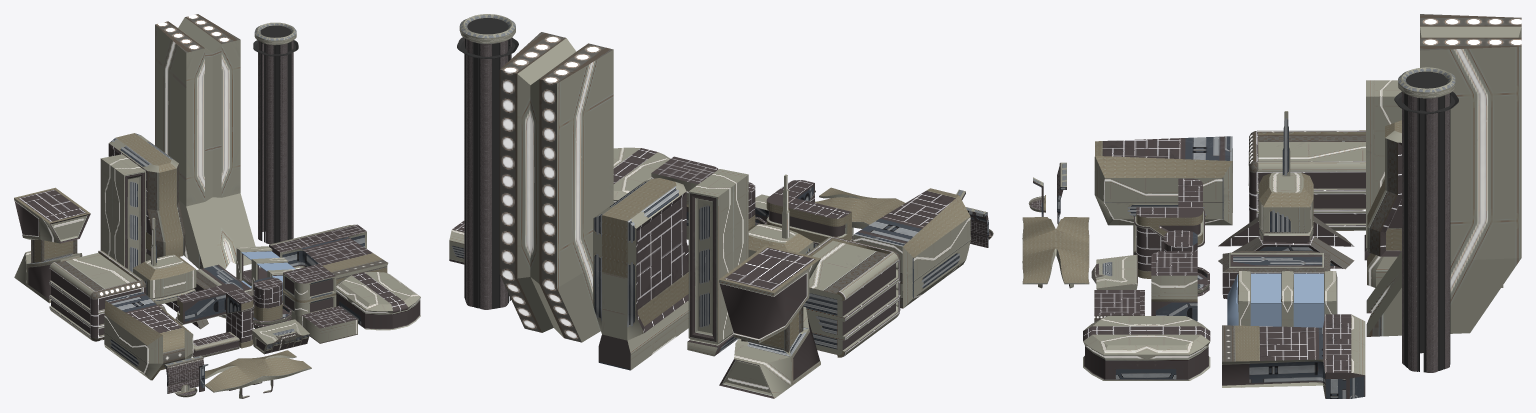
Rendered from KF_SM_ModularKit.fbx.
The picture shows the model from 3 angles, left to right: view 1: azimuth 30°, elevation 25°; view 2: azimuth 150°, elevation 25°; view 3: azimuth 270°, elevation 25°; orthographic projection. The views are drawn at different scales.
Parts seen in each view (by area): view 1: KF_SM_Tower002, Object020, KF_SM_CapB, KF_SM_DoubleB, KF_SM_WindowB, KF_SM_RectB, KF_SM_TallB, Box039, KF_SM_Tbuilding001, Box008, KF_SM_AnthenaB, Box037 (+8 smaller); view 2: KF_SM_Tower002, KF_SM_TallB, KF_SM_DoubleB, Object020, KF_SM_RectB, KF_SM_WindowB, KF_SM_CapB, Box008, Box039, KF_SM_AnthenaB, Box037, Box034 (+3 smaller); view 3: KF_SM_Tower002, Object020, KF_SM_CapB, KF_SM_Tbuilding001, KF_SM_WindowB, Box039, KF_SM_AnthenaB, KF_SM_RoomB, Box037, KF_SM_TallB, Box008, Box034 (+6 smaller).
Boxes of the visible parts, <box> form: KF_SM_Tower002: <box>155,14,255,269</box>; Object020: <box>254,22,296,244</box>; KF_SM_CapB: <box>104,291,193,380</box>; KF_SM_DoubleB: <box>14,187,90,303</box>; KF_SM_WindowB: <box>49,250,146,341</box>; KF_SM_RectB: <box>100,154,145,272</box>; KF_SM_TallB: <box>108,133,185,260</box>; Box039: <box>336,272,420,330</box>; KF_SM_Tbuilding001: <box>269,224,388,284</box>; Box008: <box>175,284,254,348</box>; KF_SM_AnthenaB: <box>133,218,208,329</box>; Box037: <box>205,350,311,398</box>; KF_SM_Tower002: <box>499,32,613,342</box>; KF_SM_TallB: <box>593,178,688,370</box>; KF_SM_DoubleB: <box>719,245,820,398</box>; Object020: <box>459,14,515,309</box>; KF_SM_RectB: <box>687,169,748,356</box>; KF_SM_WindowB: <box>803,236,900,357</box>; KF_SM_CapB: <box>852,188,970,308</box>; Box008: <box>766,180,852,244</box>; Box039: <box>613,147,670,202</box>; KF_SM_AnthenaB: <box>748,174,813,257</box>; Box037: <box>815,187,905,234</box>; Box034: <box>651,156,718,239</box>; KF_SM_Tower002: <box>1366,14,1521,336</box>; Object020: <box>1398,67,1455,372</box>; KF_SM_CapB: <box>1094,136,1232,225</box>; KF_SM_Tbuilding001: <box>1222,314,1365,398</box>; KF_SM_WindowB: <box>1248,130,1365,230</box>; Box039: <box>1083,316,1210,380</box>; KF_SM_AnthenaB: <box>1218,111,1354,269</box>; KF_SM_RoomB: <box>1227,271,1337,327</box>; Box037: <box>1022,217,1089,288</box>; KF_SM_TallB: <box>1367,120,1503,287</box>; Box008: <box>1134,178,1204,278</box>; Box034: <box>1151,251,1197,321</box>.
Size of the model in its own units: 24419 by 17353 by 25384.
